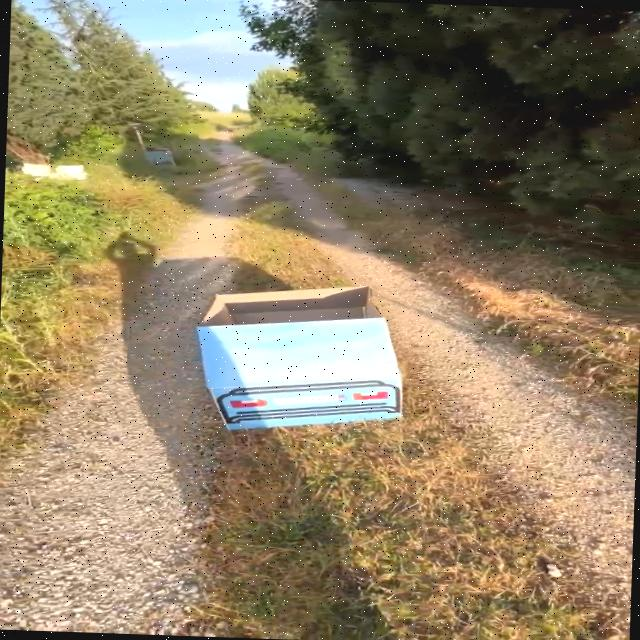blue_car: (144, 215, 490, 478)
